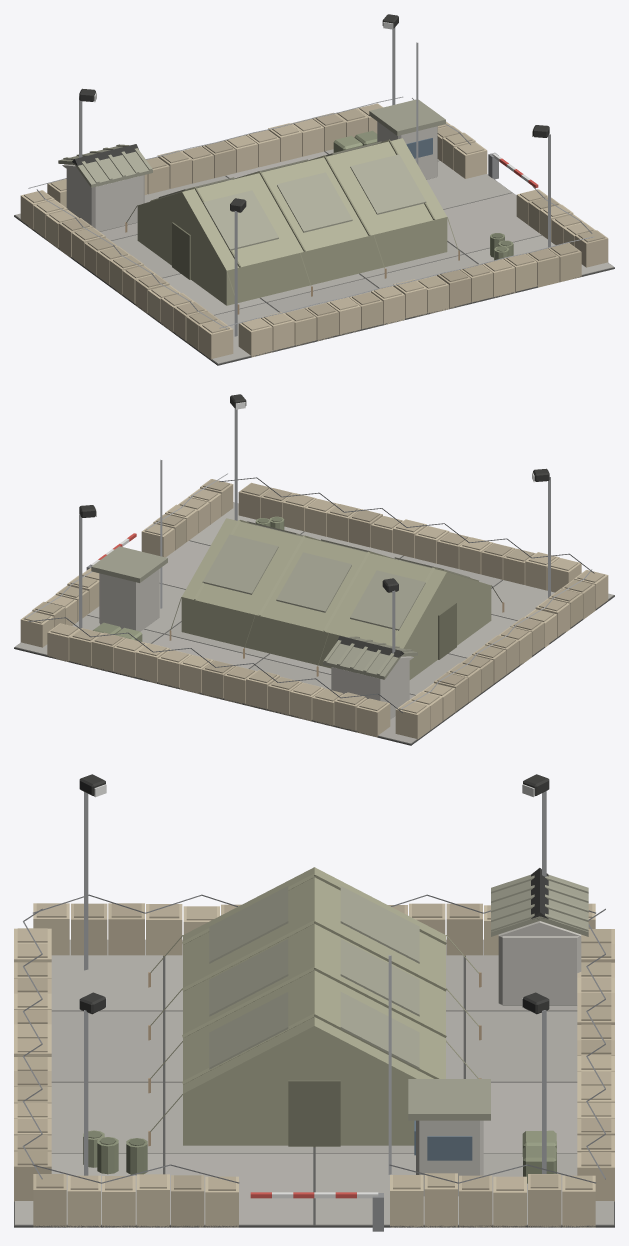
Rendered from b_tent.glb.
The picture shows the model from 3 angles, top to bottom: view 1: azimuth 30°, elevation 25°; view 2: azimuth 150°, elevation 25°; view 3: azimuth 270°, elevation 25°; orthographic projection. The views are drawn at different scales.
Parts seen in each view (by area): view 1: hull; view 2: hull; view 3: hull.
Part boxes in pixels (box(x1,y1,x2,y2)): hull: box(14, 14, 614, 365); hull: box(14, 394, 614, 745); hull: box(14, 774, 614, 1231).
Size of the model in its own units: 18.25 by 6.5 by 16.
